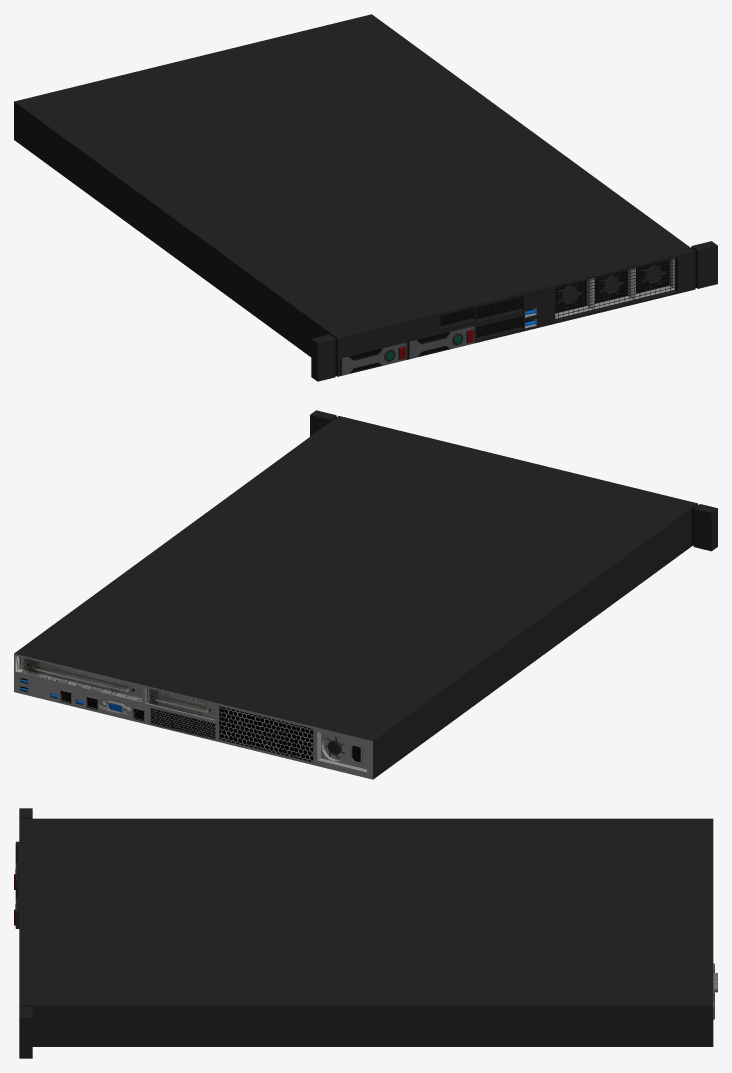
3 renders of one model, top to bottom at view 1: azimuth 30°, elevation 25°; view 2: azimuth 150°, elevation 25°; view 3: azimuth 270°, elevation 25°, orthographic. The views are drawn at different scales.
Visible parts, largest first — view 1: HPE_DL320e_G8; view 2: HPE_DL320e_G8; view 3: HPE_DL320e_G8.
Boxes of the visible parts, x1=… form: HPE_DL320e_G8: x1=14, y1=14, x2=717, y2=381; HPE_DL320e_G8: x1=14, y1=410, x2=717, y2=779; HPE_DL320e_G8: x1=14, y1=808, x2=717, y2=1058.
Size of the model in its own units: 486 by 44.5 by 690.
18 materials, 3 textured.
